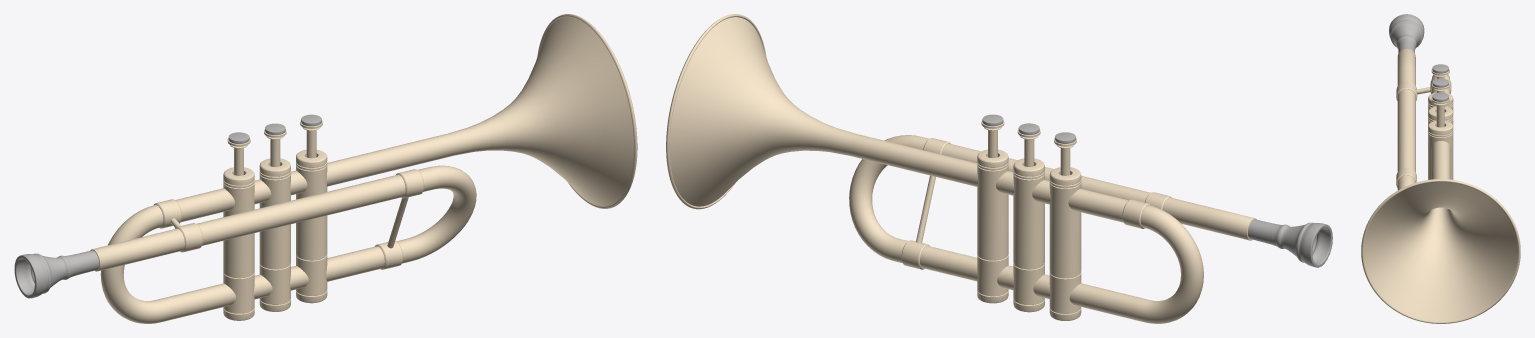
The model's file is trumpet.gltf.
3 renders of one model, left to right at view 1: azimuth 30°, elevation 25°; view 2: azimuth 150°, elevation 25°; view 3: azimuth 270°, elevation 25°, orthographic. The views are drawn at different scales.
Parts seen in each view (by area): view 1: Trumpet-Pipe, Trumpet-Valve-03, Trumpet-Valve-01, Trumpet-Valve-02, Trumpet-Mouth; view 2: Trumpet-Pipe, Trumpet-Valve-01, Trumpet-Valve-02, Trumpet-Valve-03, Trumpet-Mouth; view 3: Trumpet-Pipe, Trumpet-Mouth, Trumpet-Valve-03, Piston-Top (×3), Trumpet-Valve-02, Trumpet-Piston, Trumpet-Valve-01.
Boxes of the visible parts, x1=… form: Trumpet-Pipe: x1=90, y1=14, x2=637, y2=323; Trumpet-Valve-03: x1=296, y1=149, x2=327, y2=303; Trumpet-Valve-01: x1=223, y1=167, x2=254, y2=320; Trumpet-Valve-02: x1=259, y1=158, x2=290, y2=311; Trumpet-Mouth: x1=14, y1=250, x2=99, y2=298; Trumpet-Pipe: x1=666, y1=14, x2=1256, y2=323; Trumpet-Valve-01: x1=1049, y1=167, x2=1081, y2=320; Trumpet-Valve-02: x1=1013, y1=158, x2=1044, y2=312; Trumpet-Valve-03: x1=977, y1=149, x2=1008, y2=303; Trumpet-Mouth: x1=1248, y1=219, x2=1332, y2=267; Trumpet-Pipe: x1=1361, y1=49, x2=1520, y2=323; Trumpet-Mouth: x1=1389, y1=14, x2=1424, y2=53; Trumpet-Valve-03: x1=1428, y1=120, x2=1453, y2=179; Piston-Top (×3): x1=1432, y1=64, x2=1448, y2=101; Trumpet-Valve-02: x1=1428, y1=106, x2=1453, y2=132; Trumpet-Piston: x1=1431, y1=97, x2=1449, y2=127; Trumpet-Valve-01: x1=1428, y1=92, x2=1453, y2=111.
Size of the model in its own units: 60.02 by 20.49 by 17.73.
